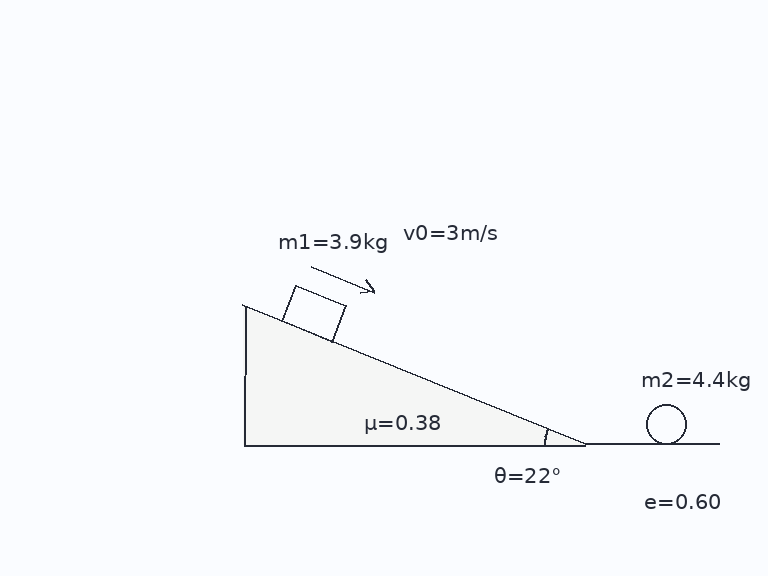ball: (644, 402, 688, 446)
block: (280, 283, 348, 343)
ramp: (242, 304, 587, 446)
